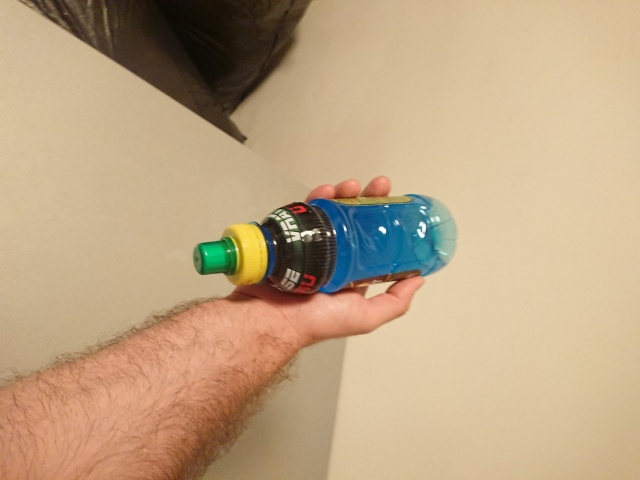Vindi Iso Sport Forest Strawberries 500mL: (190, 191, 459, 296)
